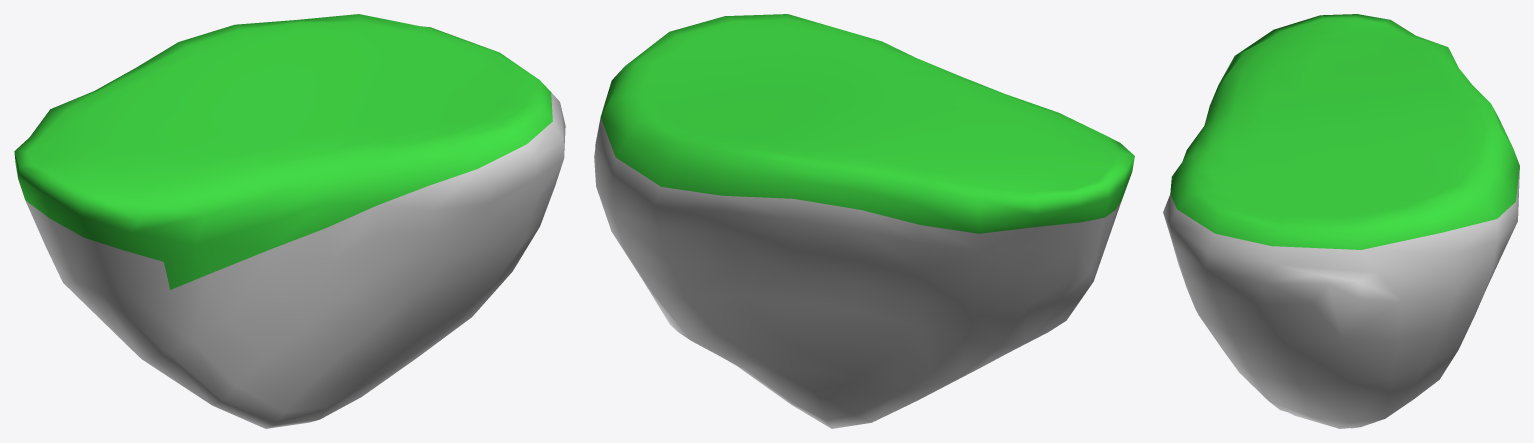
The model's file is platform_r_3_02.fbx.
The picture shows the model from 3 angles, left to right: view 1: azimuth 30°, elevation 25°; view 2: azimuth 150°, elevation 25°; view 3: azimuth 270°, elevation 25°; orthographic projection. The views are drawn at different scales.
Parts seen in each view (by area): view 1: platform_l_02.001; view 2: platform_l_02.001; view 3: platform_l_02.001.
Part boxes in pixels (left/top/right/bottom): platform_l_02.001: left=14, top=14, right=565, bottom=428; platform_l_02.001: left=594, top=14, right=1134, bottom=428; platform_l_02.001: left=1163, top=14, right=1519, bottom=428.
Size of the model in its own units: 12.19 by 7.32 by 7.94.
